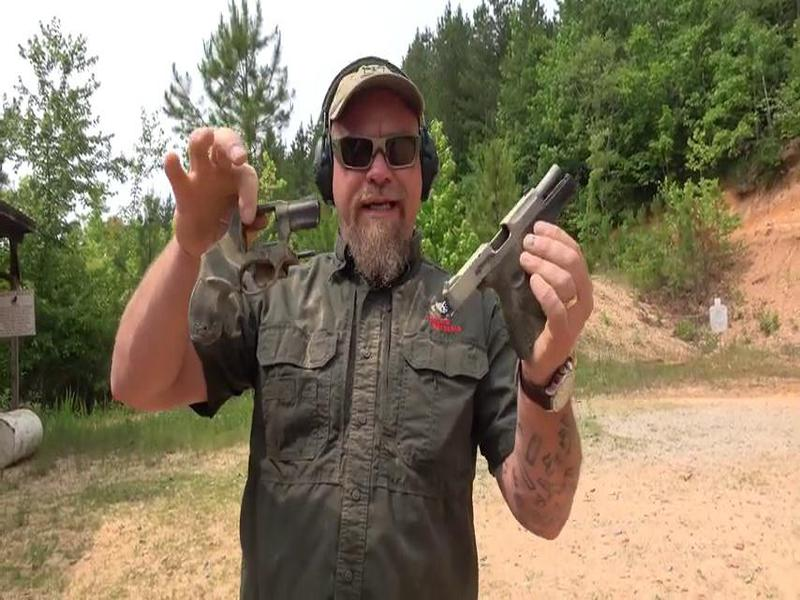Pistola: (430, 144, 599, 381)
Revolver: (183, 159, 341, 348)
